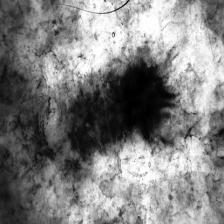Benign Marking or Mole: (74, 67, 190, 146)
